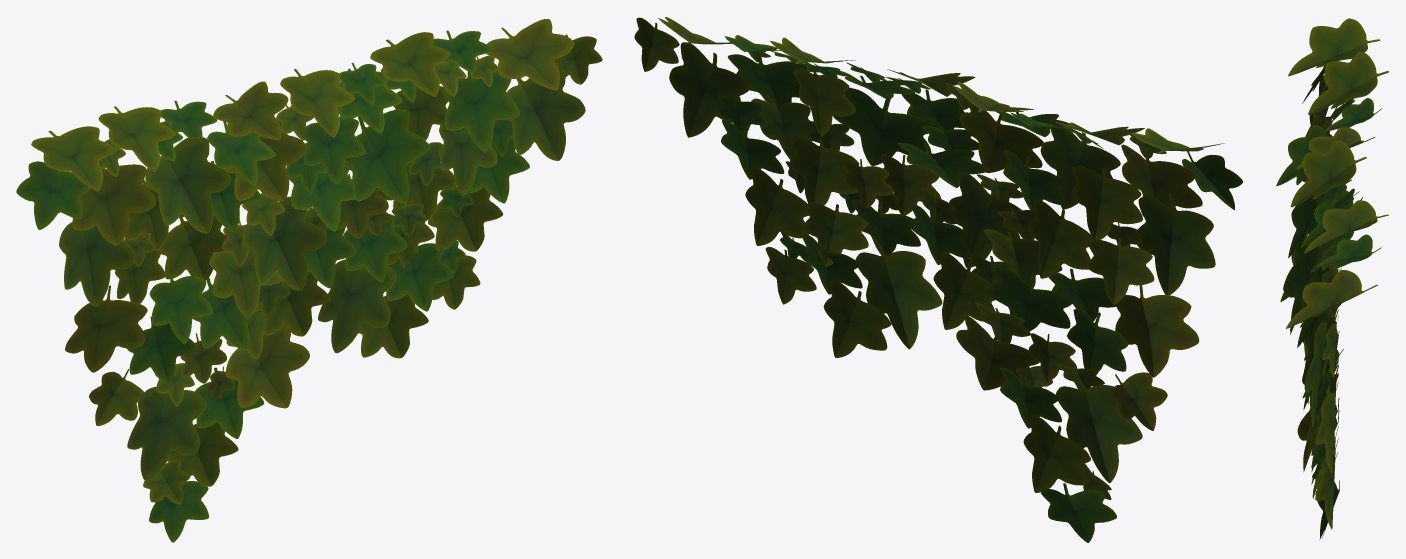
Rendered from ivy_m_01a.fbx.
3 views of the same model, side by side, from view 1: azimuth 30°, elevation 25°; view 2: azimuth 150°, elevation 25°; view 3: azimuth 270°, elevation 25° (orthographic). The views are drawn at different scales.
Visible parts, largest first — view 1: ivy_m_01a; view 2: ivy_m_01a; view 3: ivy_m_01a.
Part boxes in pixels (x1=…): ivy_m_01a: x1=16, y1=19, x2=602, y2=542; ivy_m_01a: x1=634, y1=17, x2=1242, y2=542; ivy_m_01a: x1=1276, y1=18, x2=1388, y2=539.
Size of the model in its own units: 122 by 19.6 by 85.29.
Materials: 1 (1 with a texture image).
